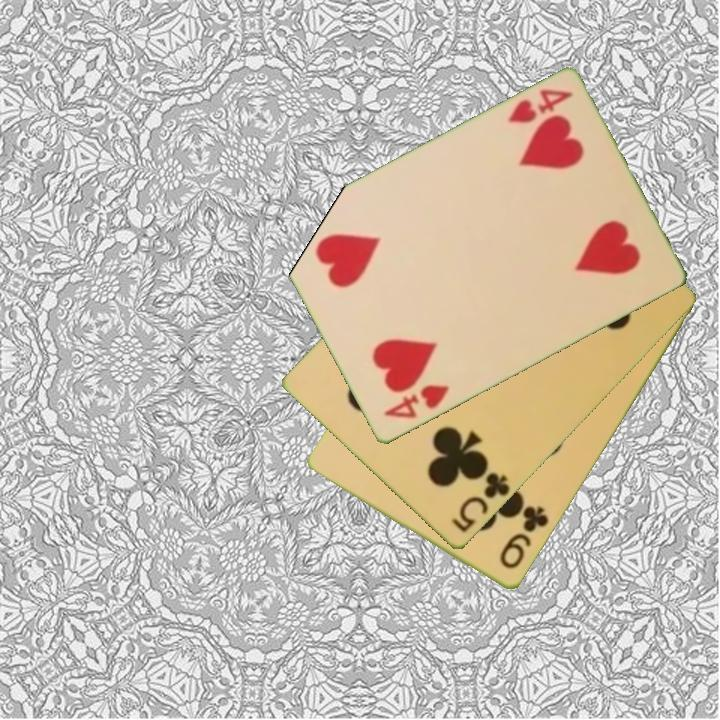4h: (380, 381, 452, 423), (504, 86, 576, 127)
5c: (448, 469, 513, 536)
9c: (496, 503, 552, 573)
